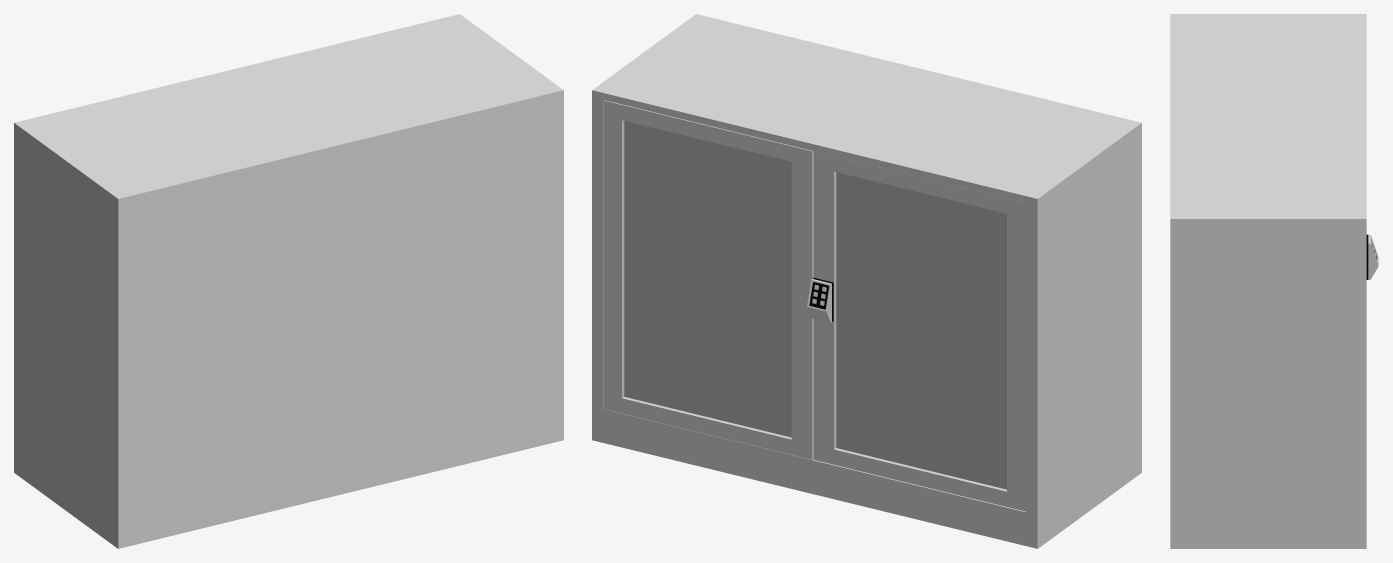
The model's file is Lemari Interact.fbx.
3 renders of one model, left to right at view 1: azimuth 30°, elevation 25°; view 2: azimuth 150°, elevation 25°; view 3: azimuth 270°, elevation 25°, orthographic. The views are drawn at different scales.
Parts seen in each view (by area): view 1: Cube.031; view 2: Cube.031, Cube.025, Cube.001; view 3: Cube.031, Cube.025.
Part boxes in pixels (bbox=[...]): Cube.031: bbox=[14, 14, 563, 548]; Cube.031: bbox=[592, 14, 1141, 548]; Cube.025: bbox=[807, 151, 1025, 511]; Cube.001: bbox=[604, 100, 813, 459]; Cube.031: bbox=[1170, 14, 1366, 548]; Cube.025: bbox=[1366, 234, 1378, 279].
Size of the model in its own units: 515 by 386 by 221.
5 materials, 4 textured.
